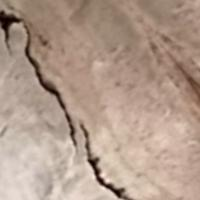crack: (0, 11, 131, 199)
